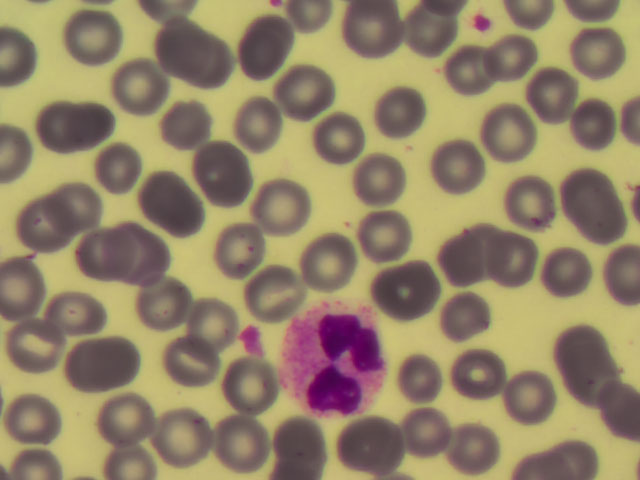Platelets: (237, 323, 270, 356), (468, 9, 494, 37)
RBC: (62, 6, 130, 76), (25, 89, 93, 159), (84, 86, 152, 156), (111, 56, 179, 126), (143, 11, 211, 81), (182, 28, 250, 98), (236, 7, 304, 77), (272, 60, 340, 130), (226, 88, 294, 158), (155, 84, 223, 154), (195, 137, 263, 207), (136, 163, 204, 233), (90, 135, 158, 205), (52, 165, 120, 235), (5, 186, 73, 256), (59, 224, 127, 294), (105, 216, 173, 286), (128, 261, 196, 331), (52, 272, 120, 342), (14, 304, 82, 374), (56, 331, 124, 401), (164, 331, 232, 401), (171, 280, 239, 350), (210, 215, 278, 285), (251, 169, 319, 239), (298, 229, 366, 299), (237, 254, 305, 324), (343, 204, 411, 274), (348, 146, 416, 216), (311, 109, 379, 179), (371, 78, 439, 148), (431, 136, 499, 206), (470, 101, 538, 171), (344, 6, 412, 76), (390, 3, 458, 73), (482, 33, 550, 103), (435, 45, 503, 115), (503, 59, 571, 129), (564, 28, 632, 98), (560, 87, 628, 157), (553, 164, 621, 234), (495, 170, 563, 240), (483, 213, 551, 283), (425, 225, 493, 295), (374, 257, 442, 327), (438, 281, 506, 351), (386, 339, 454, 409), (447, 328, 515, 398), (494, 359, 562, 429), (547, 316, 615, 386), (442, 410, 510, 480), (401, 404, 469, 474), (348, 408, 416, 478), (282, 410, 350, 480), (216, 410, 284, 480), (222, 358, 290, 428), (158, 402, 226, 472), (96, 377, 164, 447), (1, 381, 69, 451)
WBC: (282, 305, 392, 418)
